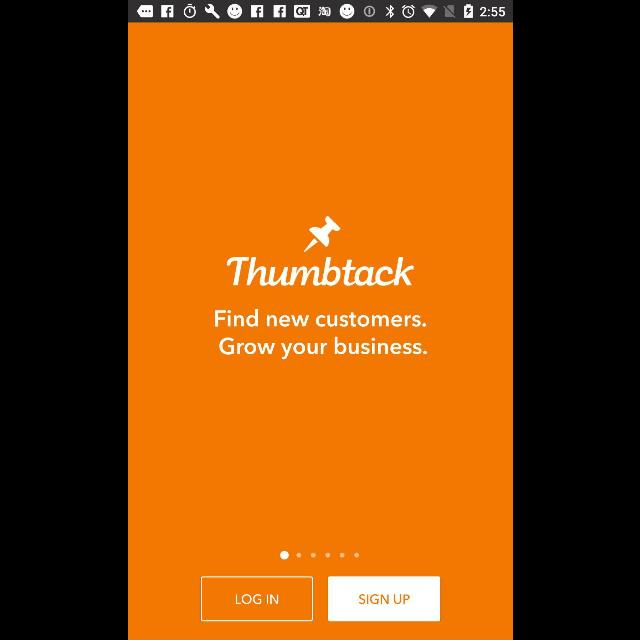image: (226, 215, 414, 288)
pageindicator: (279, 550, 359, 560)
text: (214, 308, 426, 359)
textbutton: (326, 576, 439, 622), (200, 576, 312, 622)
uppertaskbar: (128, 1, 512, 23)
